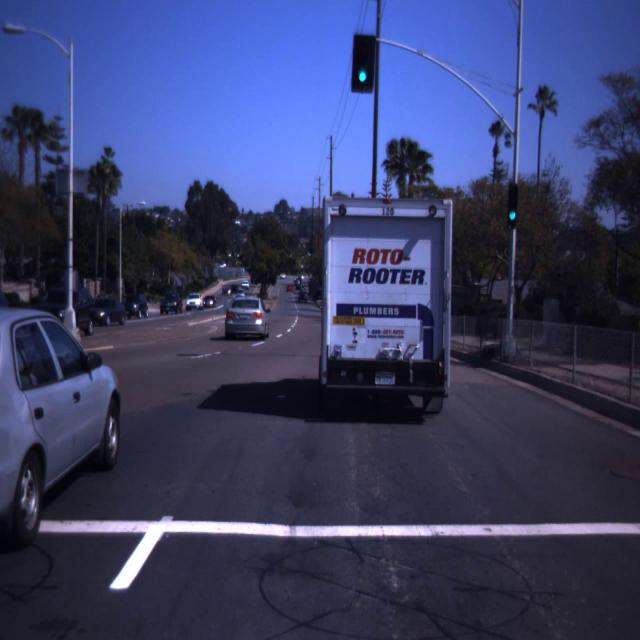yesil: (350, 34, 377, 92), (508, 183, 518, 226)
